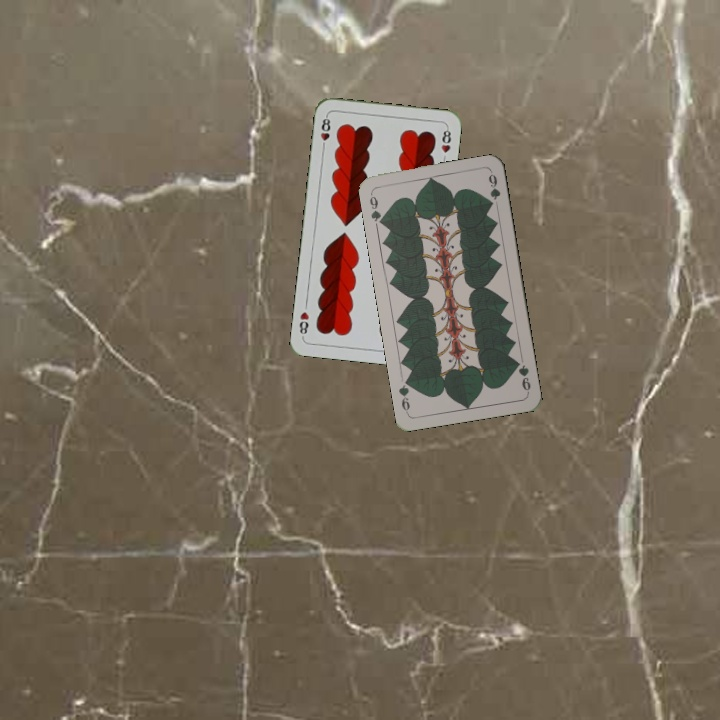G9: (511, 356, 533, 395), (366, 189, 387, 228)
H8: (317, 112, 333, 152)
